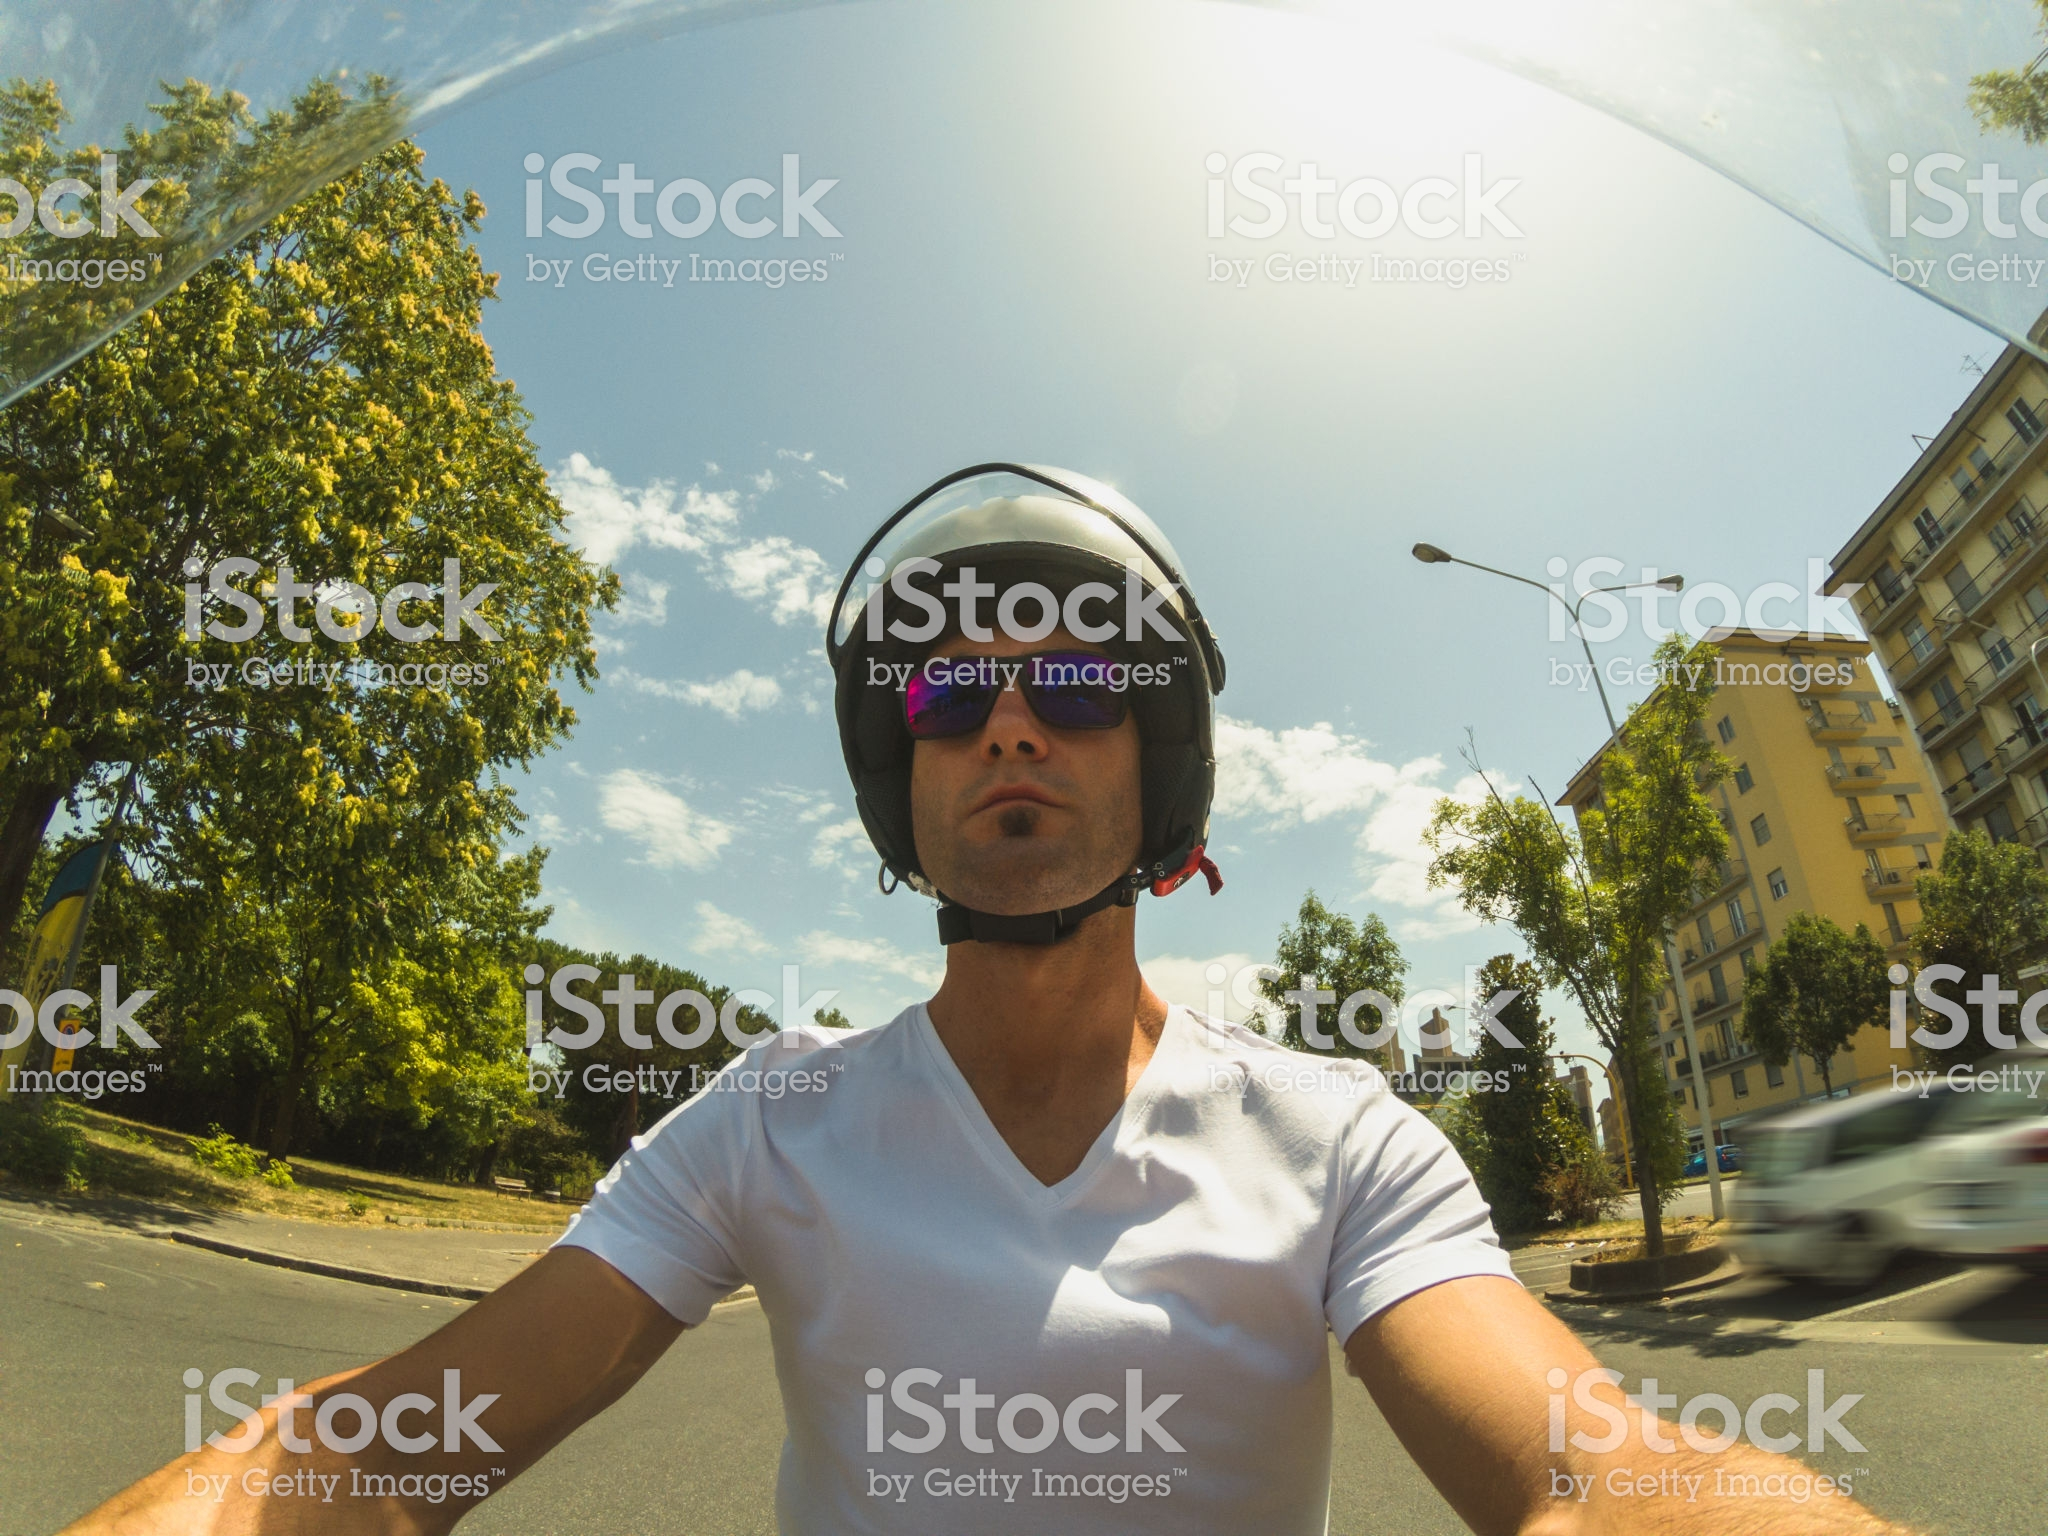helmet: (792, 436, 1226, 883)
